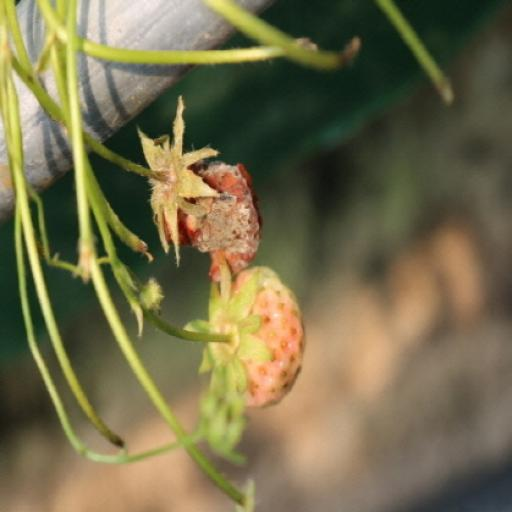Gray Mold: (135, 95, 264, 284)
